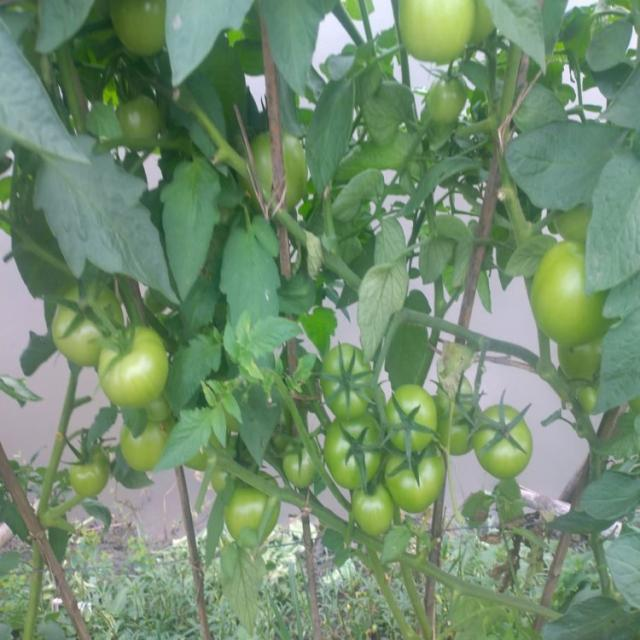tomato: (535, 246, 611, 345), (395, 2, 498, 63), (104, 331, 169, 407), (246, 137, 309, 205), (322, 344, 379, 417), (318, 421, 380, 488), (478, 404, 534, 478), (385, 382, 437, 450), (388, 457, 450, 510), (57, 285, 99, 358), (228, 481, 277, 543), (111, 4, 171, 53), (560, 348, 605, 411), (124, 423, 169, 473), (443, 389, 477, 455), (72, 446, 114, 499), (117, 95, 161, 140), (429, 79, 468, 120), (347, 495, 385, 535), (286, 439, 313, 493), (545, 209, 589, 242), (196, 456, 226, 485)
